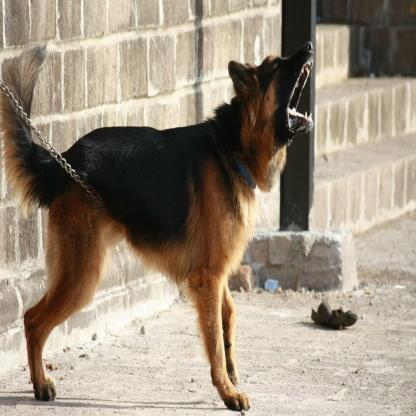dog: (0, 38, 317, 409)
